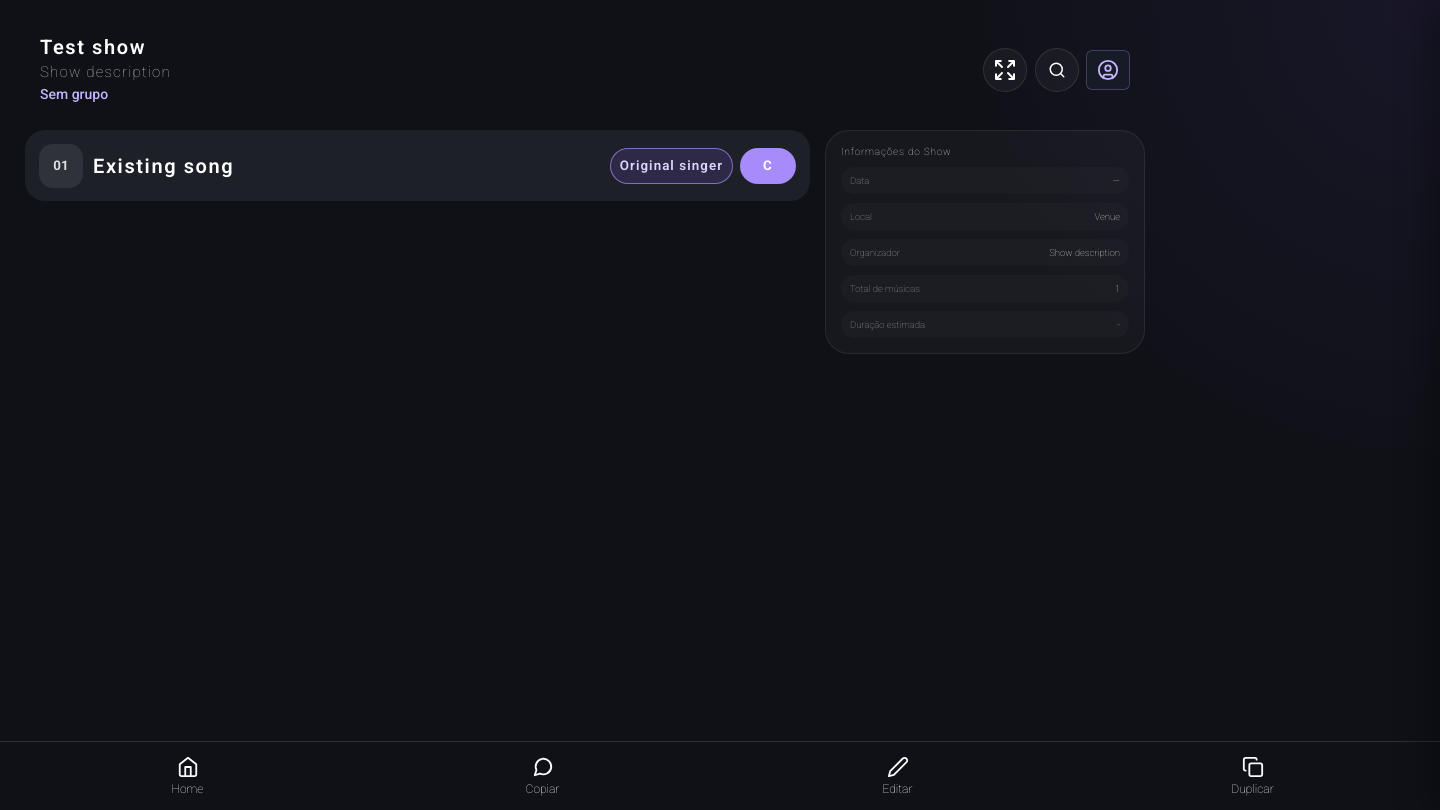
it: SetlistPage adding songs › loads the duplicated setlist after navigating to its ID without remounting
Expected: the heading "Test show" is shown, [40, 35, 146, 59]
Click the button "Duplicar". click: (1252, 776)
box: [1075, 748, 1430, 804]
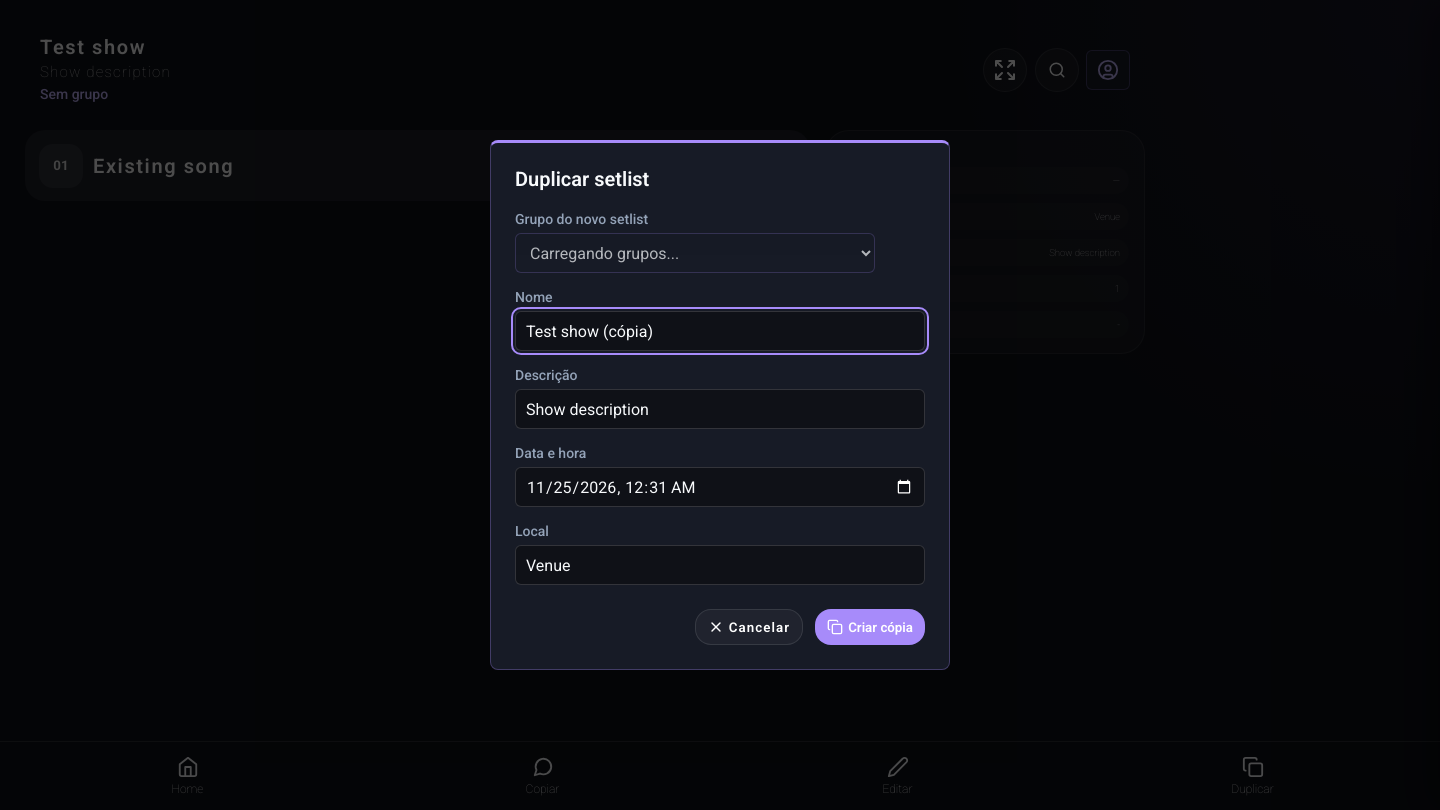
Replace the text in the field labelled "Nome" with "Copied show". click: (720, 331)
box: [515, 311, 925, 351]
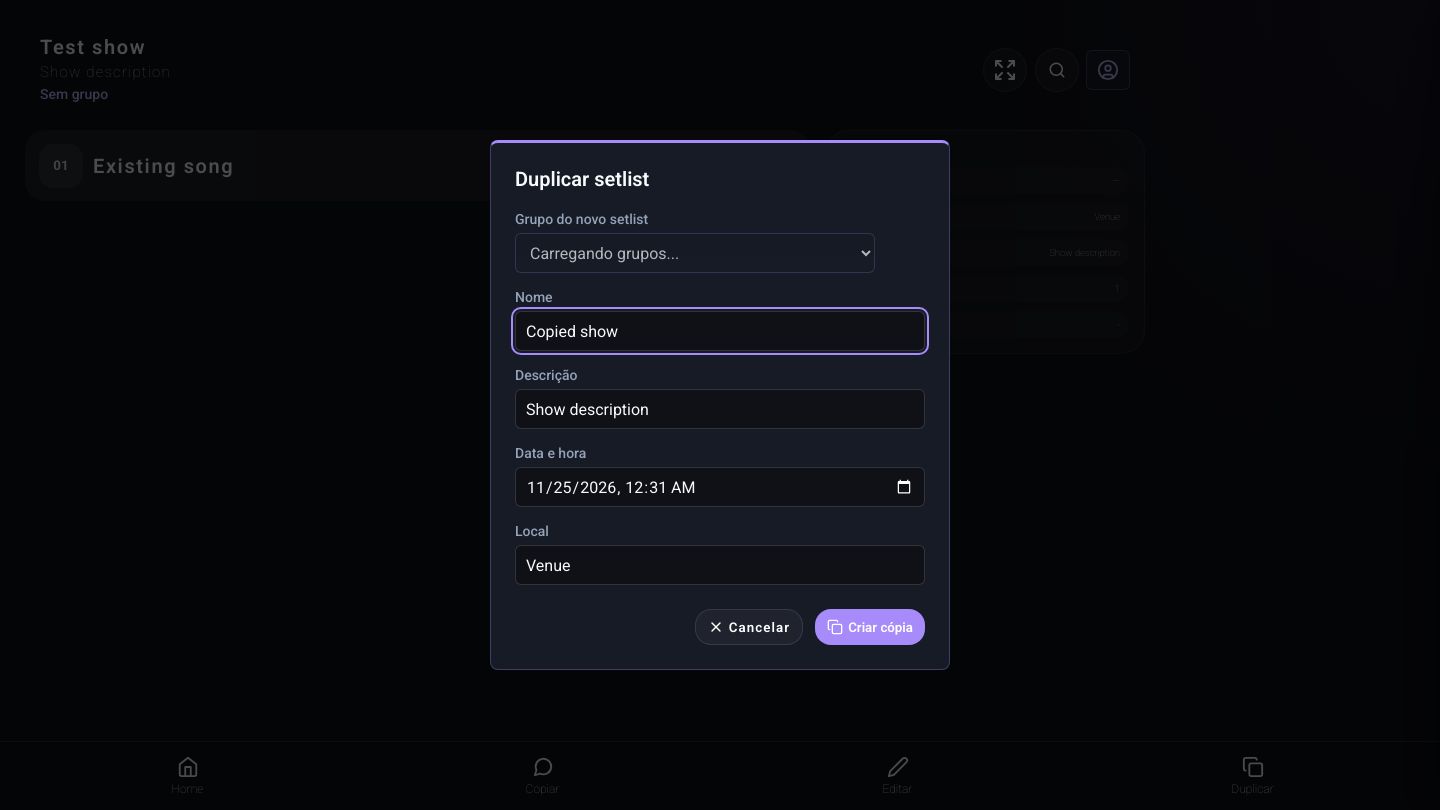
Click the button "Criar cópia". click: (870, 627)
box: [815, 609, 925, 645]
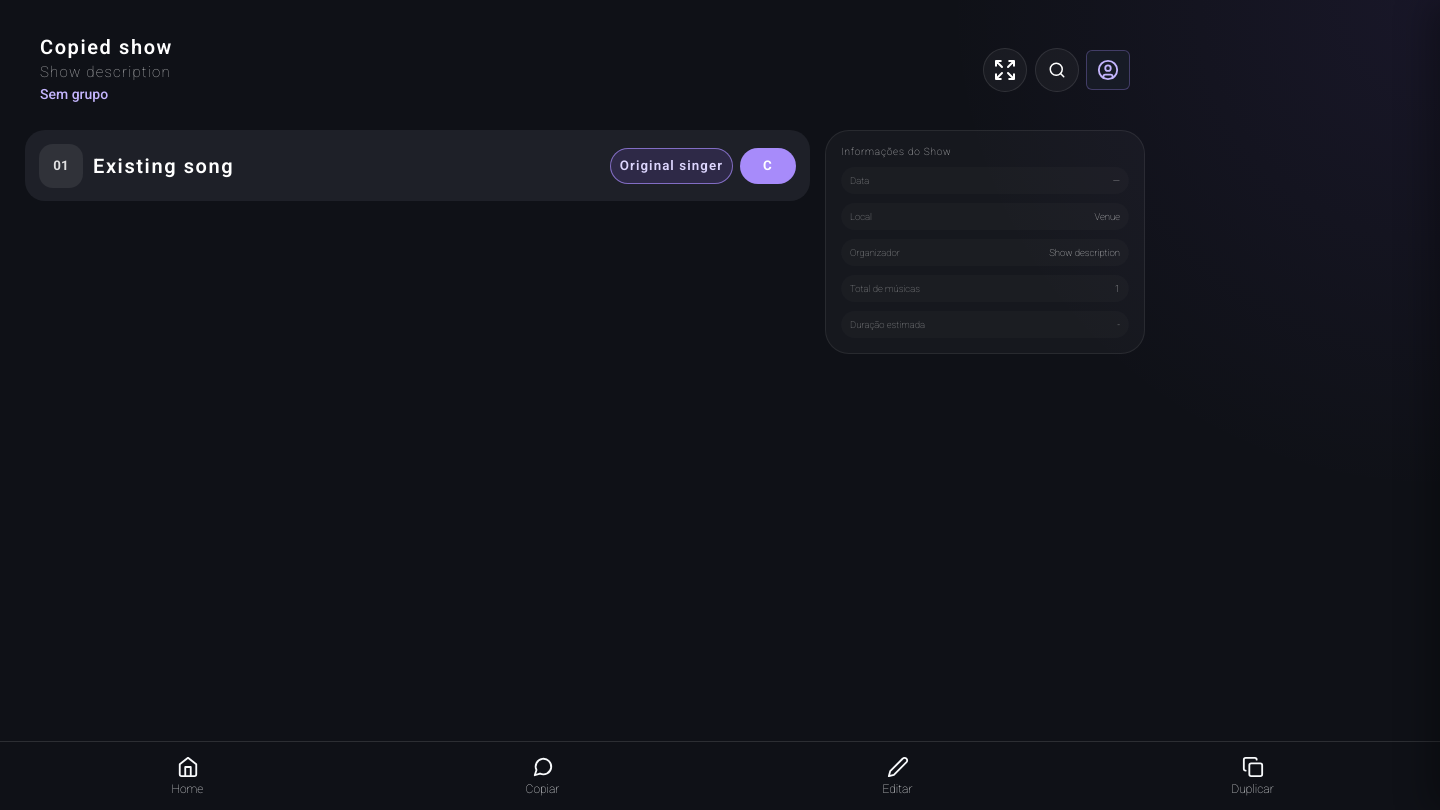
Result: the heading "Copied show" is shown at [40, 35, 173, 59]
Result: the heading "Test show" is gone
Result: the heading "Duplicar setlist" is gone
